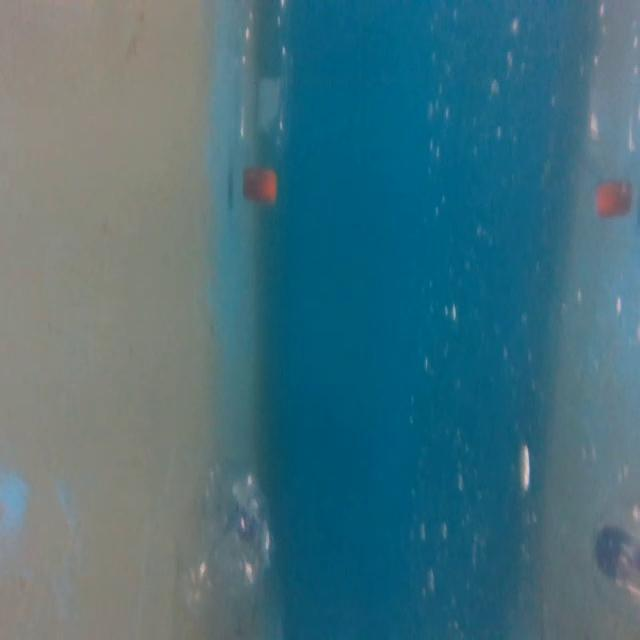plastic bags: (182, 458, 278, 618)
plastic bottle: (226, 0, 293, 207)
